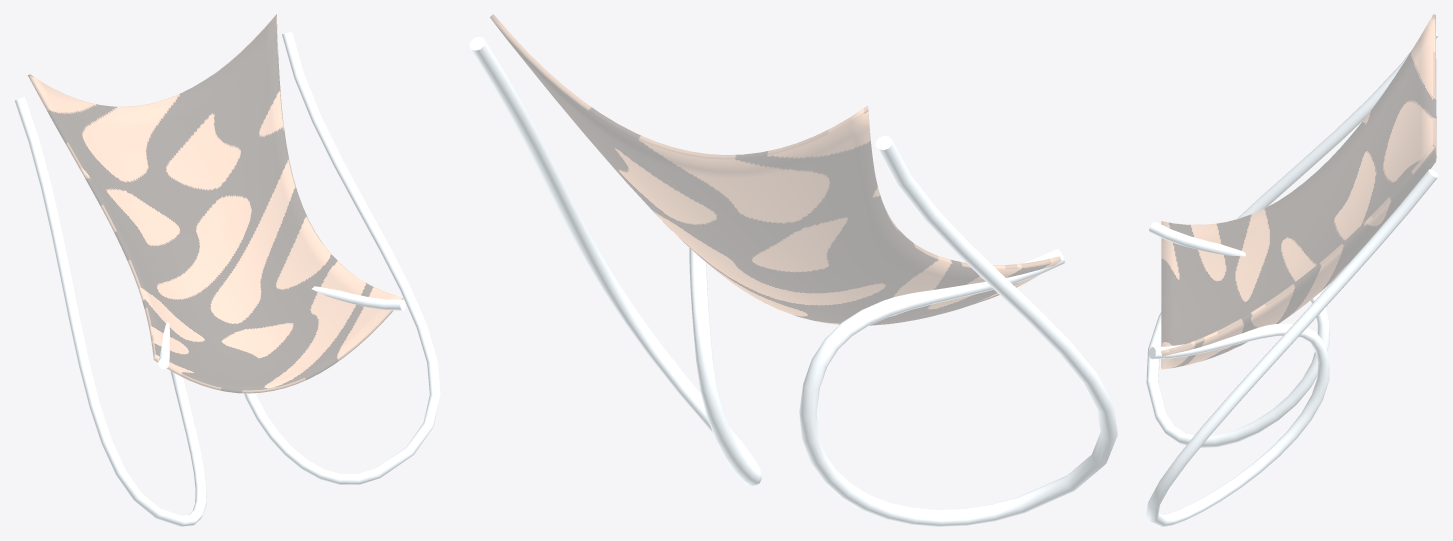
Rendered from ref03_01.glb.
3 views of the same model, side by side, from view 1: azimuth 30°, elevation 25°; view 2: azimuth 150°, elevation 25°; view 3: azimuth 270°, elevation 25° (orthographic). The views are drawn at different scales.
Parts seen in each view (by area): view 1: ref03_01; view 2: ref03_01; view 3: ref03_01.
Part boxes in pixels (x1=…): ref03_01: x1=14, y1=14, x2=440, y2=526; ref03_01: x1=469, y1=14, x2=1117, y2=526; ref03_01: x1=1146, y1=14, x2=1438, y2=526.
Size of the model in its own units: 0.9563 by 1.01 by 0.6654.
Materials: 2 (1 with a texture image).
